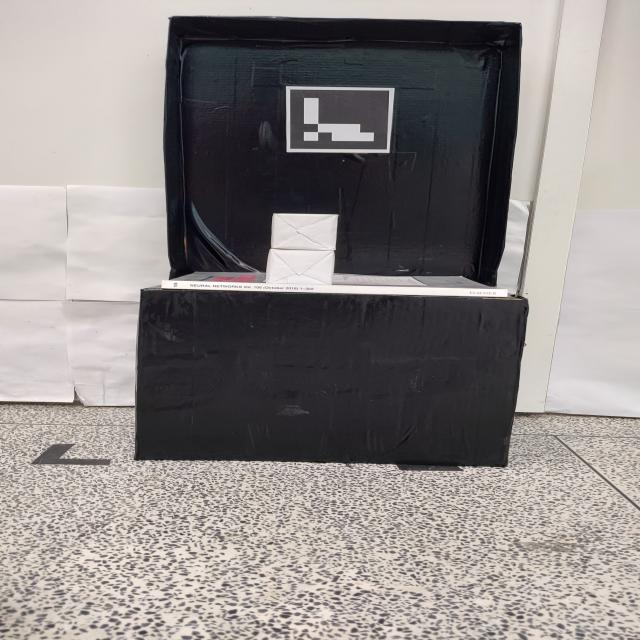bale: (264, 248, 336, 285), (270, 213, 340, 251)
